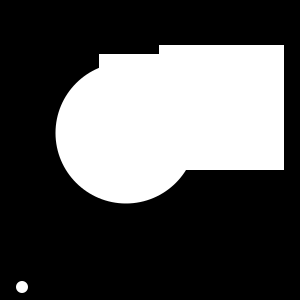circle: (159, 45, 284, 170), (99, 54, 215, 170), (108, 118, 128, 138)
rectangle: (56, 63, 196, 204), (16, 281, 28, 293)
